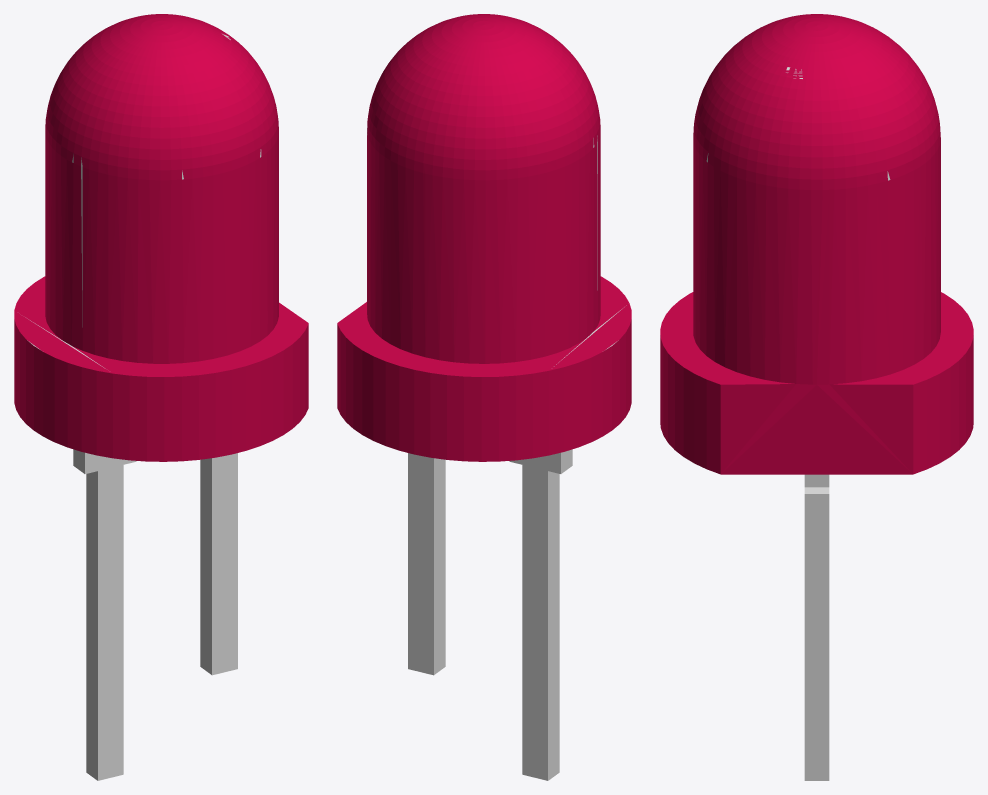
3 renders of one model, left to right at view 1: azimuth 30°, elevation 25°; view 2: azimuth 150°, elevation 25°; view 3: azimuth 270°, elevation 25°, orthographic. The views are drawn at different scales.
Visible parts, largest first — view 1: _33; view 2: _33; view 3: _33.
Part boxes in pixels (left/top/right/bottom): _33: left=14, top=14, right=308, bottom=780; _33: left=337, top=14, right=631, bottom=780; _33: left=660, top=14, right=973, bottom=780.
Size of the model in its own units: 0.0529 by 0.0591 by 0.1618.
